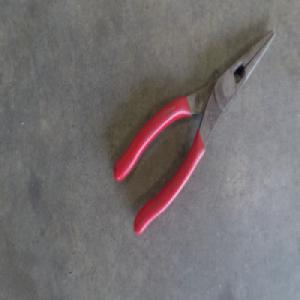Pliers: (114, 28, 278, 234)
